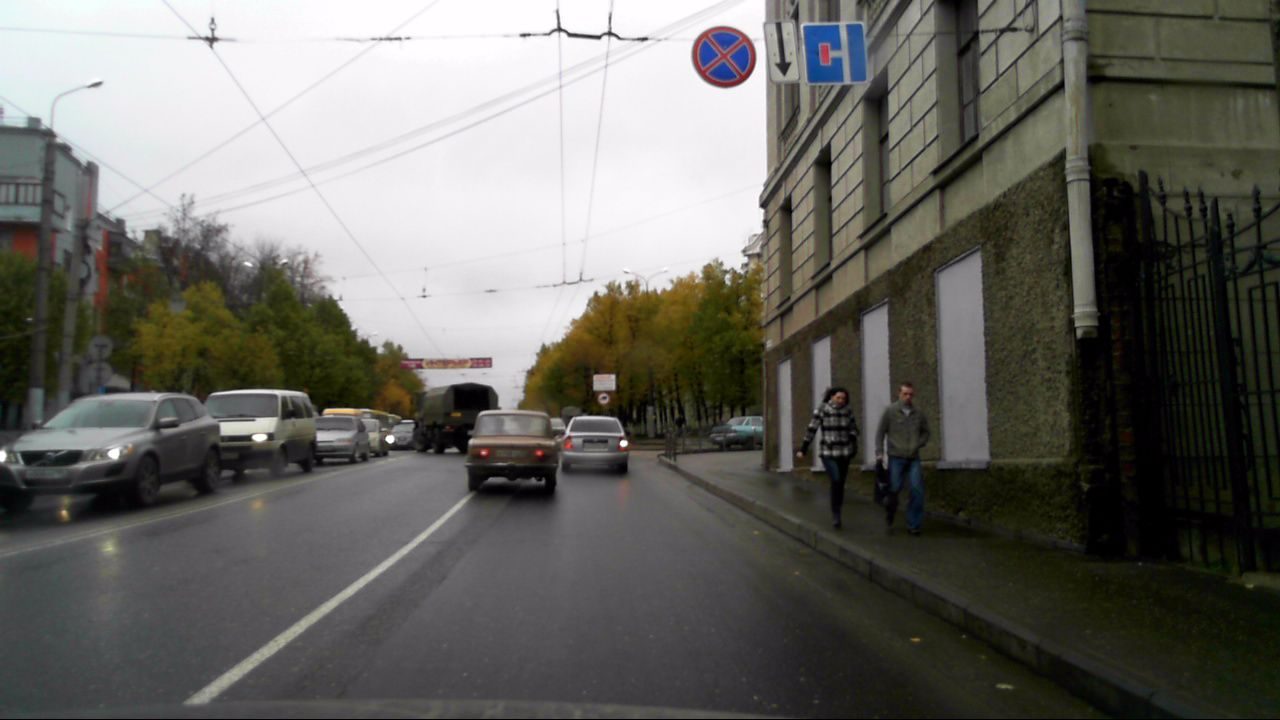No Parking: (691, 26, 756, 88)
